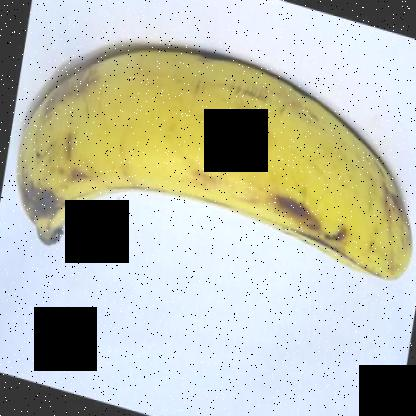ripe: (11, 32, 415, 300)
